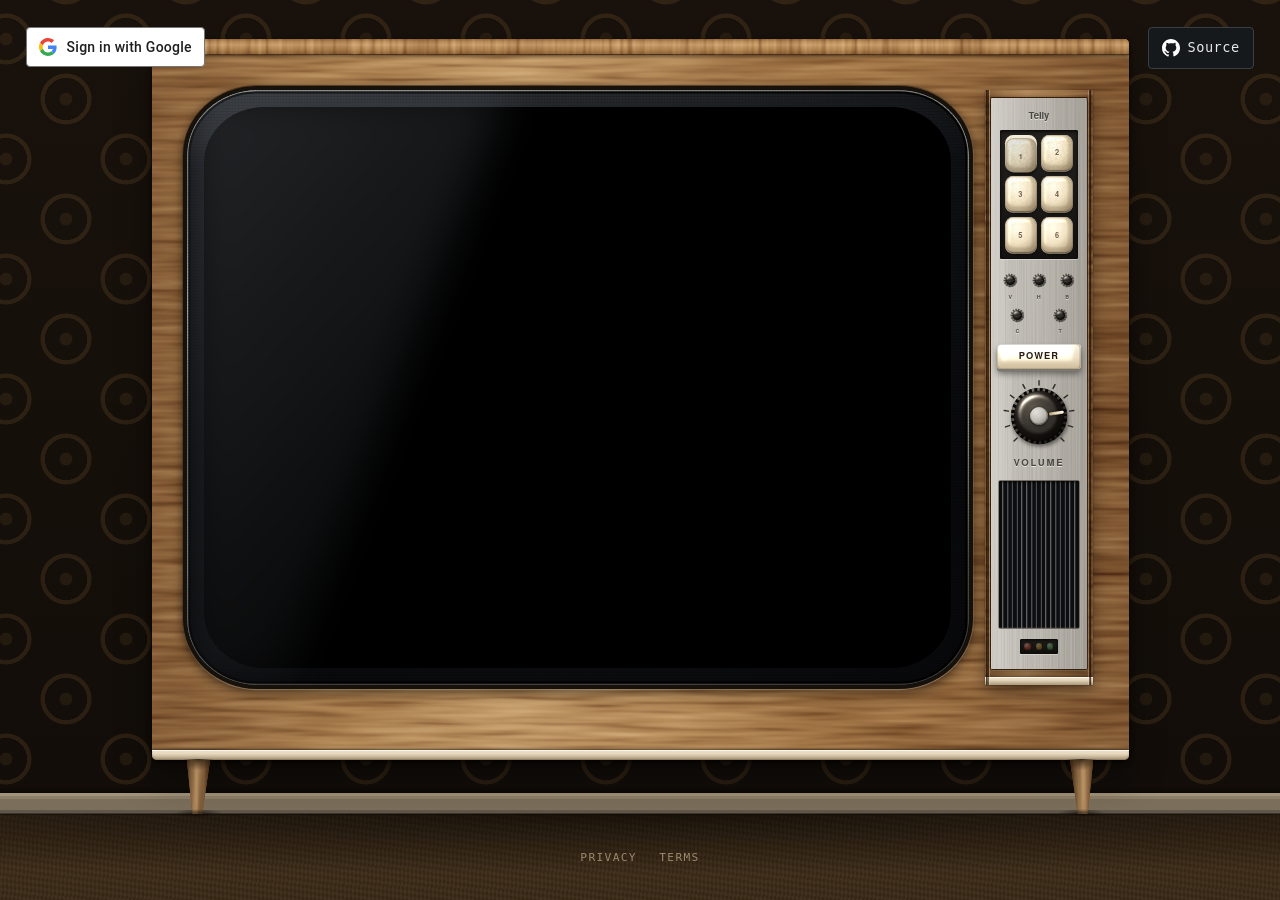
Test case: App › stays on the air when the pool is the wrong shape
Step 1. Click the button "Power" → (1039, 356), box [997, 344, 1080, 369]
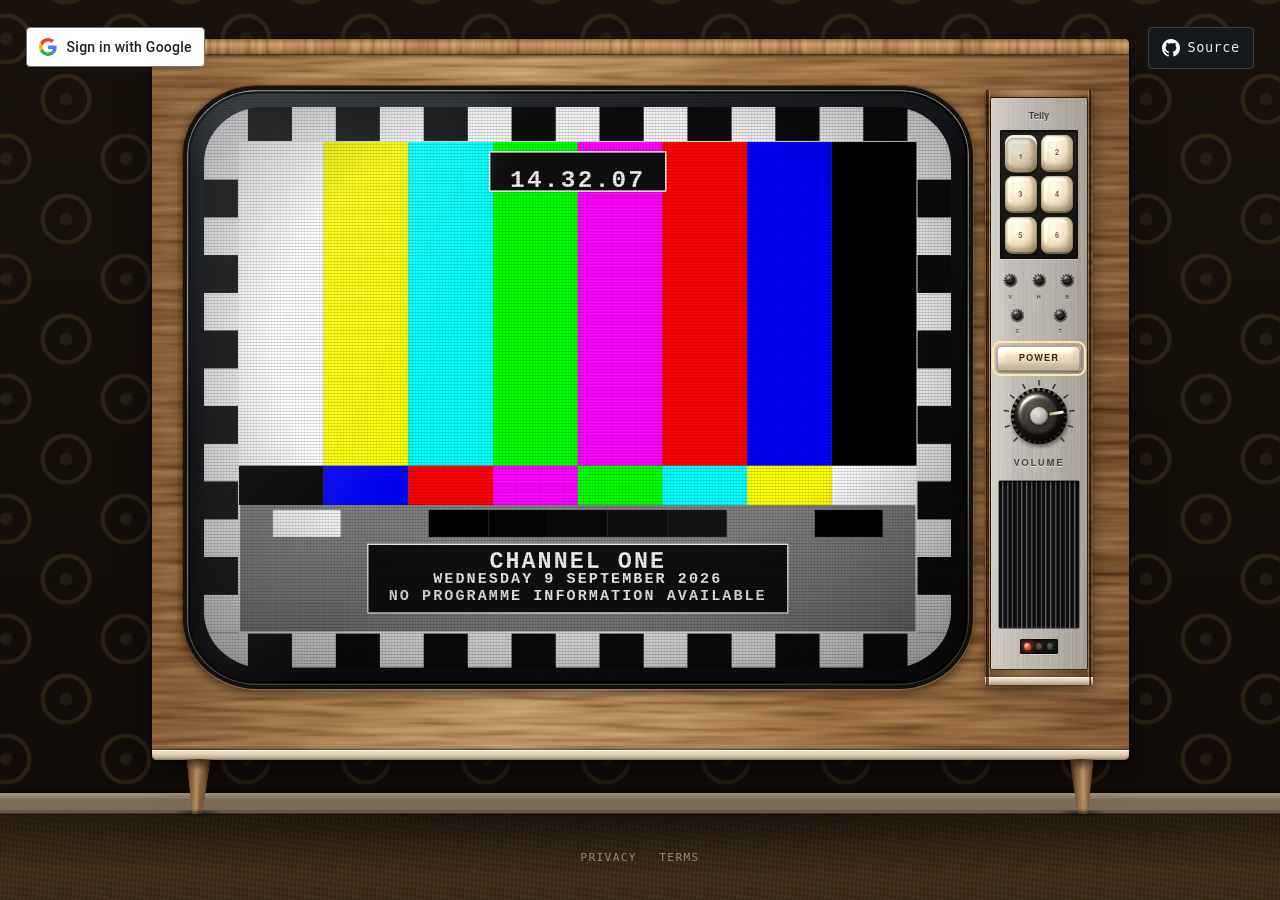
Expected: the icon named "closedown test card" is shown, [204, 107, 951, 668]
